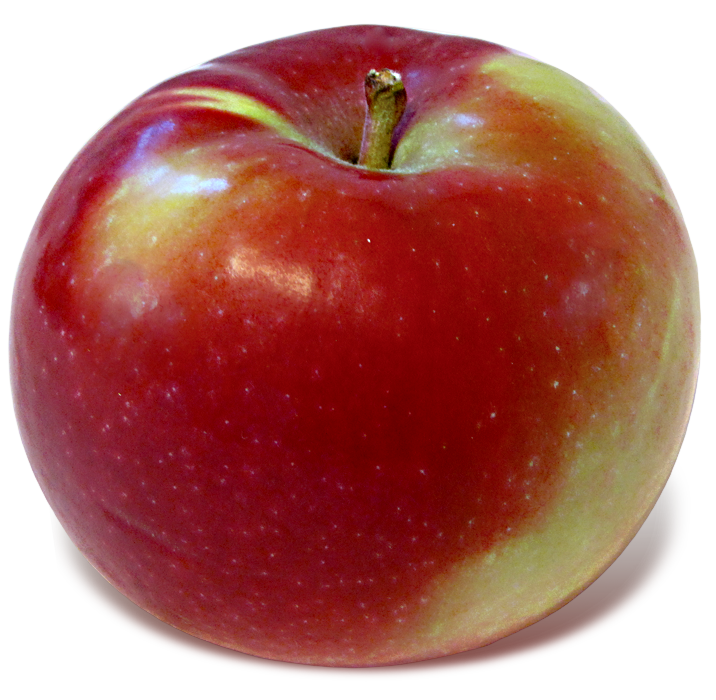apple: (22, 10, 700, 669)
